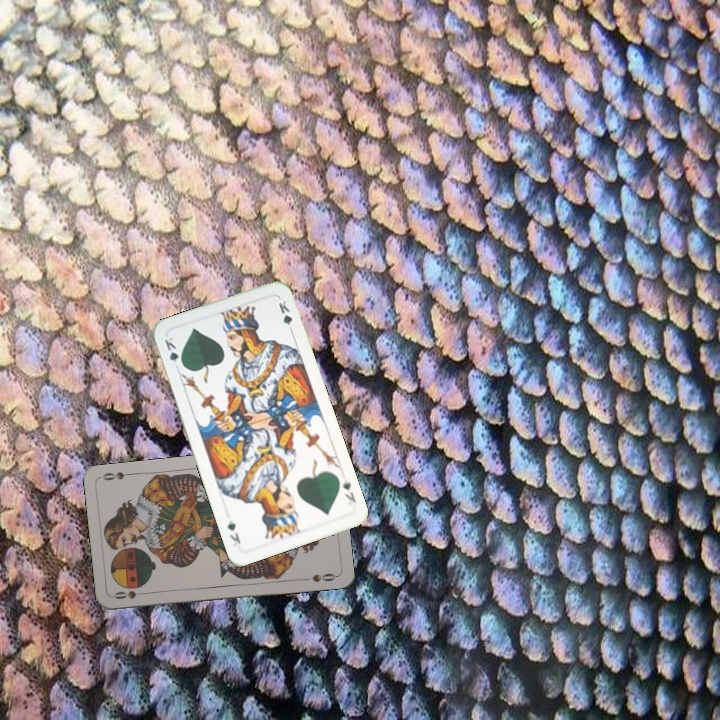GK: (160, 333, 186, 370), (339, 474, 358, 508)
SO: (110, 587, 151, 602)
